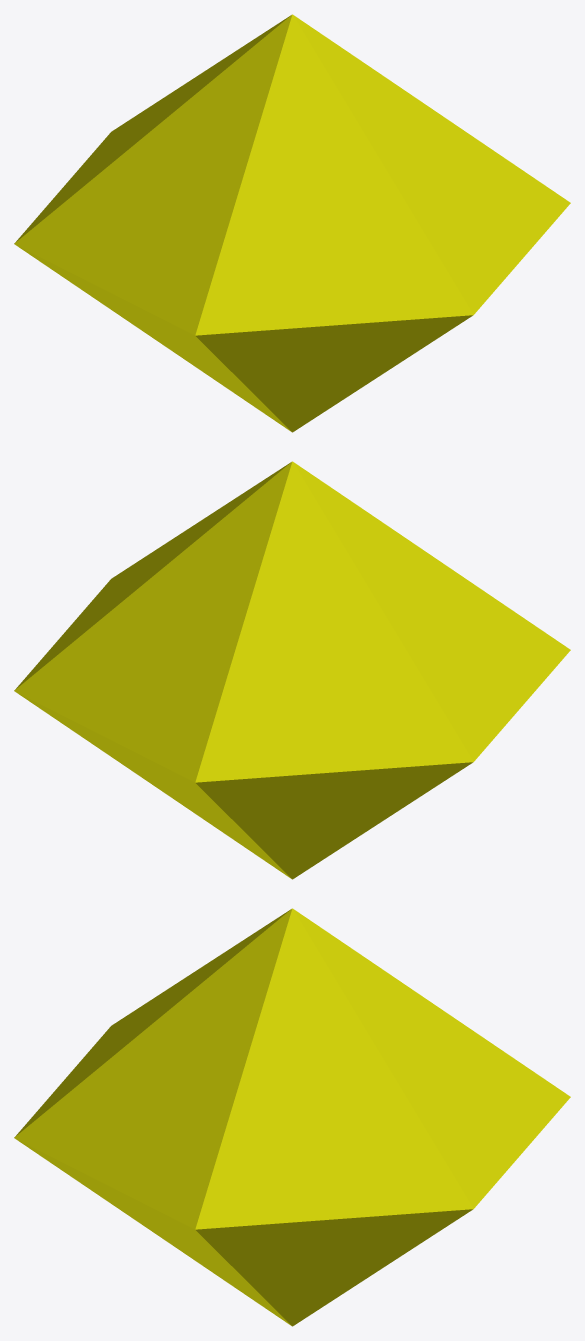
The model's file is star.fbx.
3 renders of one model, top to bottom at view 1: azimuth 30°, elevation 25°; view 2: azimuth 150°, elevation 25°; view 3: azimuth 270°, elevation 25°, orthographic.
Visible parts, largest first — view 1: Solid; view 2: Solid; view 3: Solid.
Boxes of the visible parts, x1,y1,x2,y2 form: Solid: (14,14,570,432); Solid: (14,461,570,879); Solid: (14,908,570,1326).
Size of the model in its own units: 28.22 by 24.54 by 29.61.
